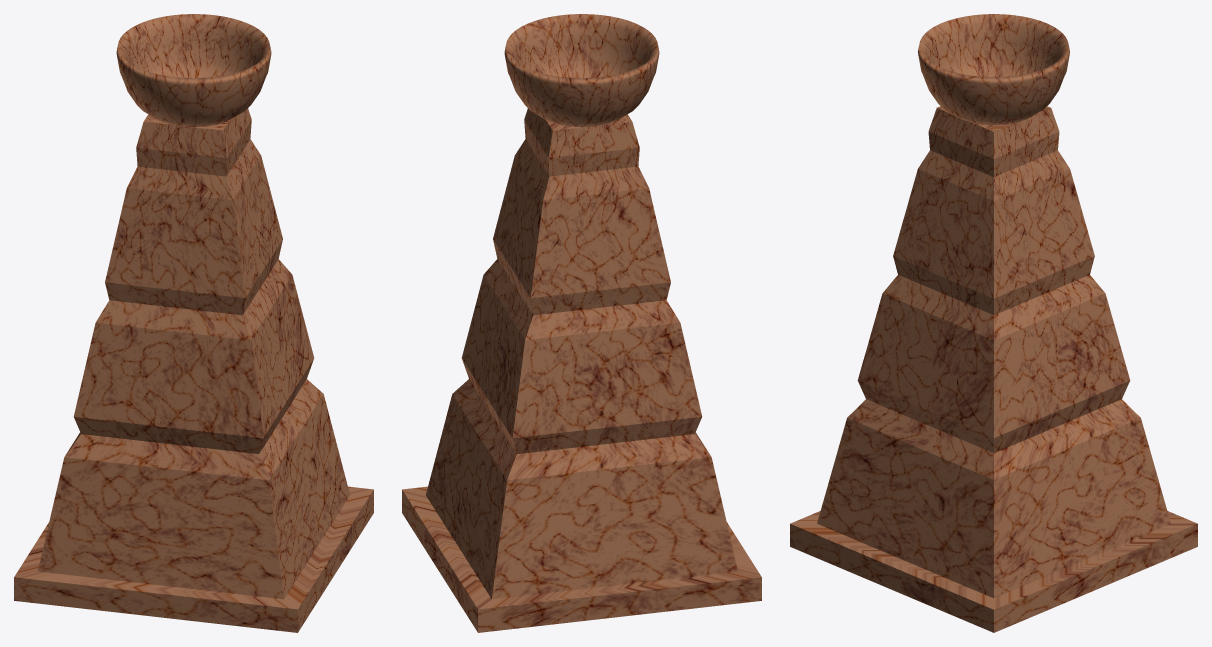
The model's file is Torch.fbx.
The picture shows the model from 3 angles, left to right: view 1: azimuth 30°, elevation 25°; view 2: azimuth 150°, elevation 25°; view 3: azimuth 270°, elevation 25°; orthographic projection.
Parts seen in each view (by area): view 1: Torch; view 2: Torch; view 3: Torch.
Boxes of the visible parts, x1,y1,x2,y2 form: Torch: [14, 14, 373, 632]; Torch: [402, 14, 761, 632]; Torch: [790, 14, 1197, 632].
Bounding box in the file's own units: 287 × 390 × 287.
1 material, 1 textured.
